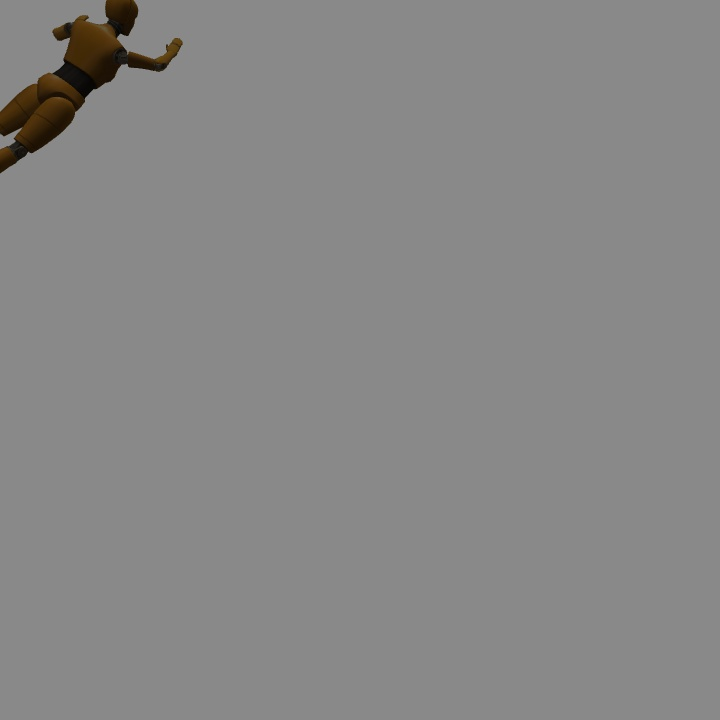victim: (1, 1, 181, 169)
